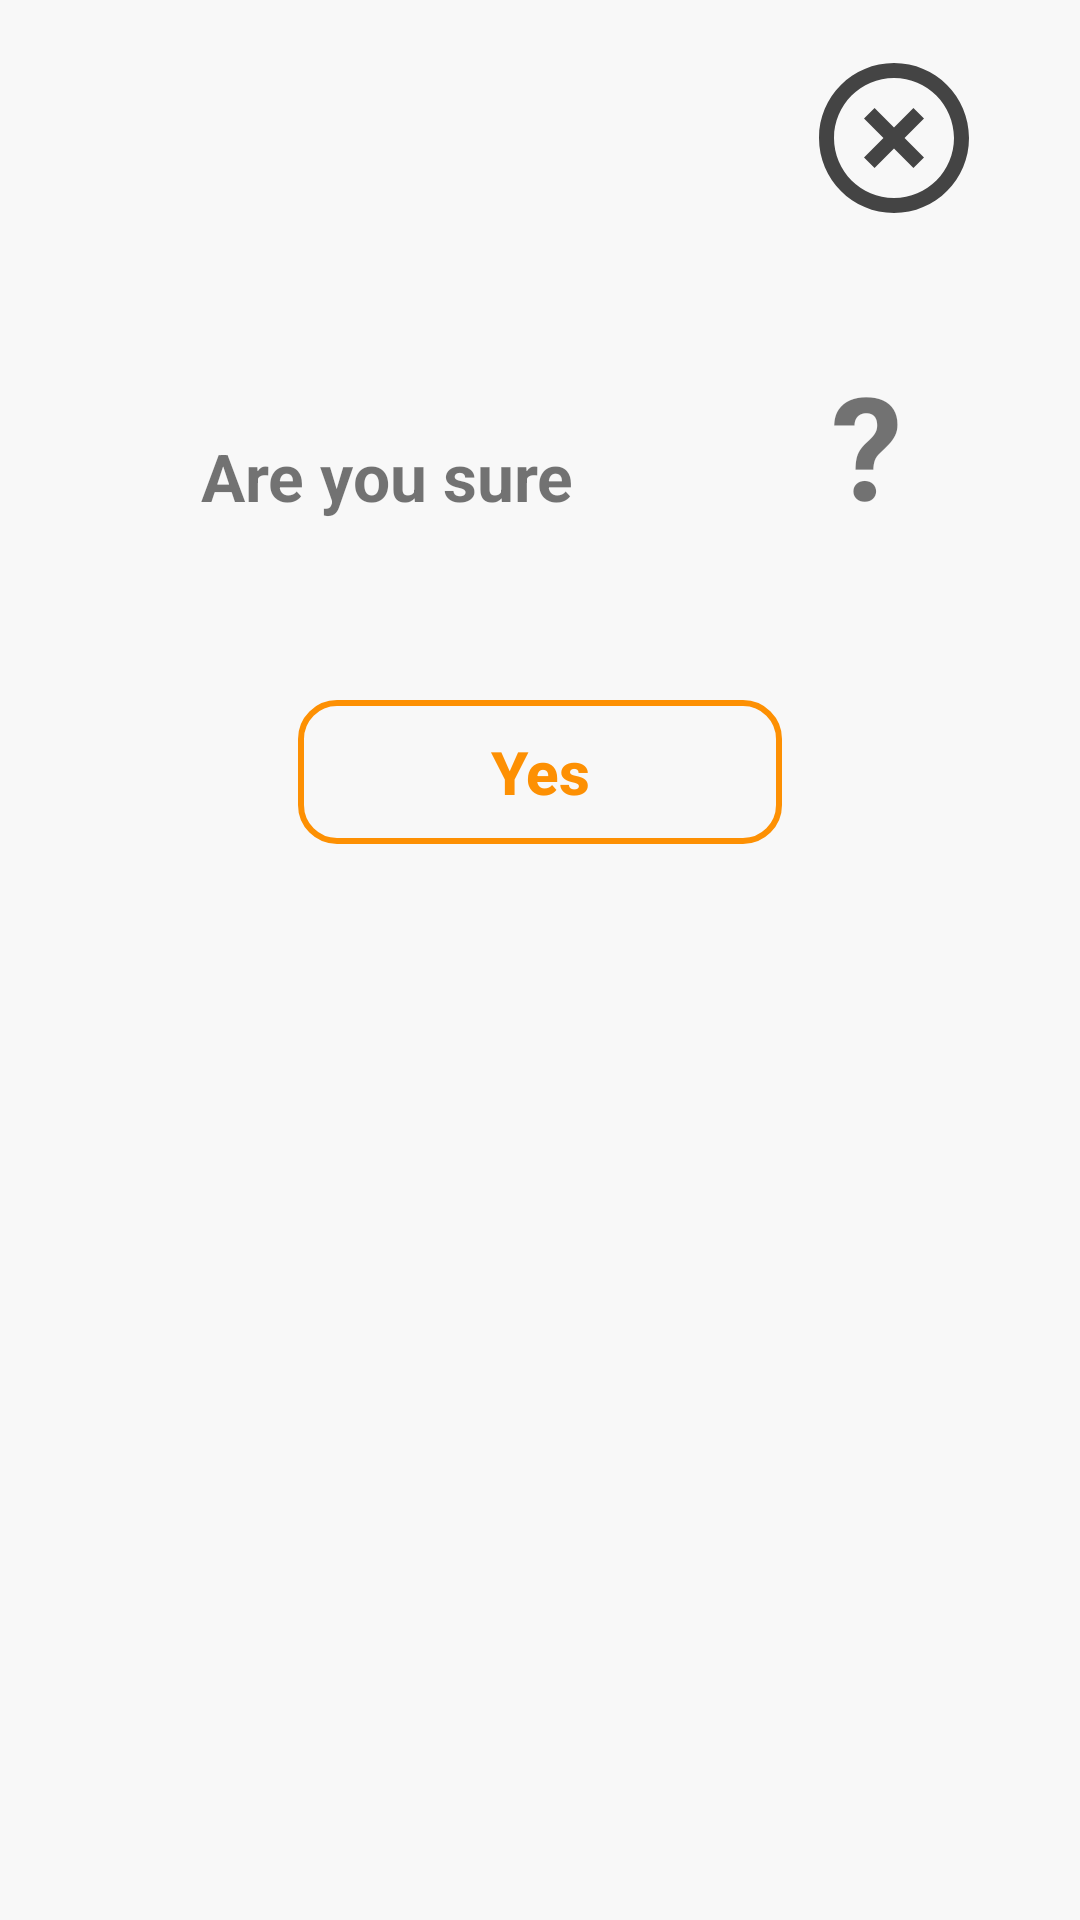

Icons on this 1080 × 1920 Android screen, each with its box as (x1, y1, x2, y2):
highlight off: (819, 63, 969, 213)
